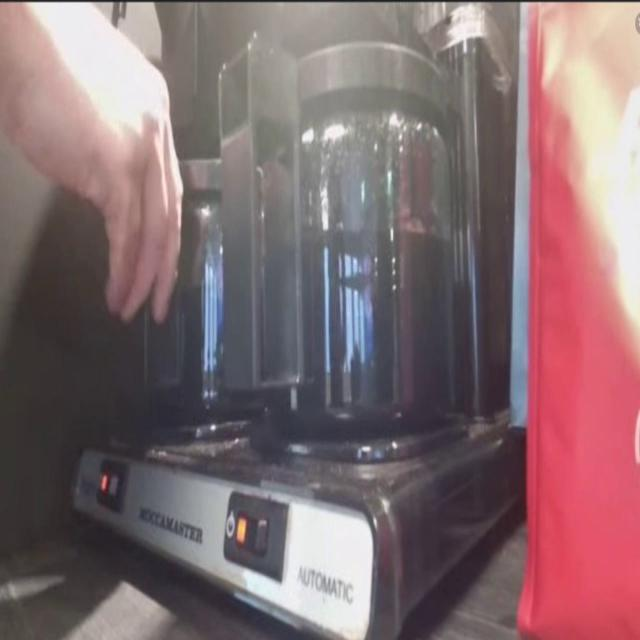coffee: (266, 32, 463, 446), (114, 140, 280, 432)
